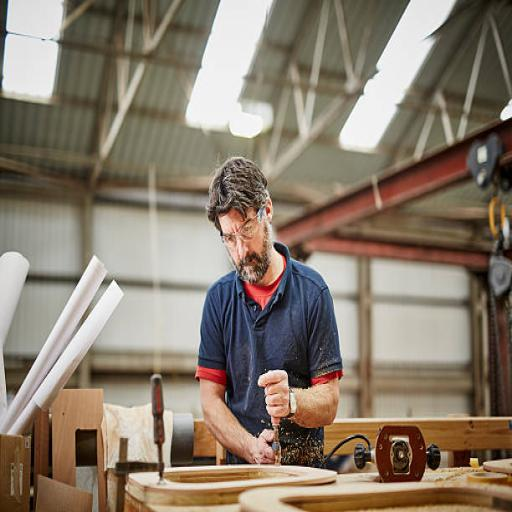No Gloves: (236, 362, 306, 483)
No Helmet: (193, 146, 312, 298)
safety glasses: (203, 184, 278, 261)
